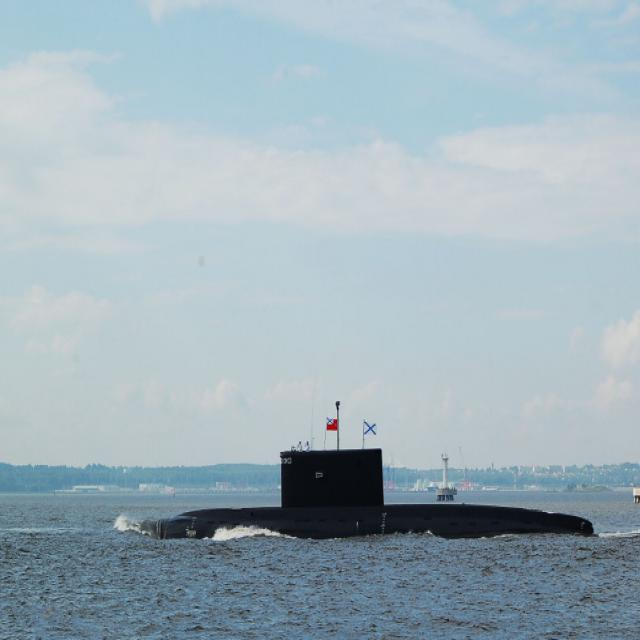submarine: (150, 445, 600, 541)
